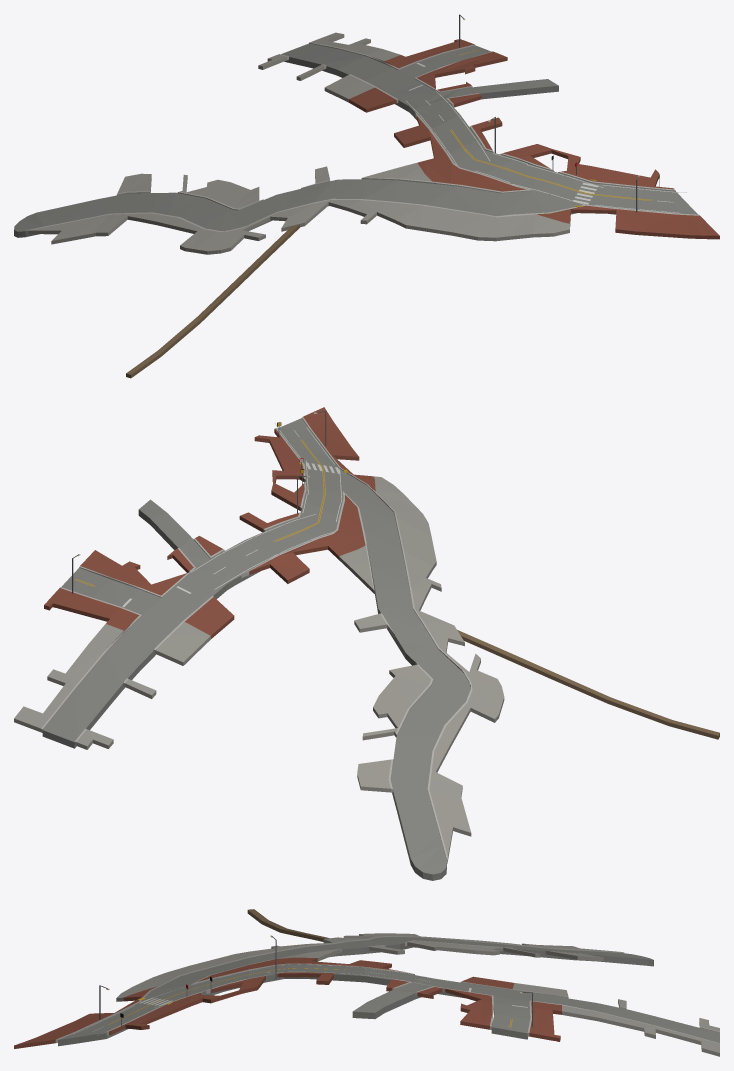
The picture shows the model from 3 angles, top to bottom: view 1: azimuth 30°, elevation 25°; view 2: azimuth 150°, elevation 25°; view 3: azimuth 270°, elevation 25°; orthographic projection. The views are drawn at different scales.
Size of the model in its own units: 102 by 34.2 by 121.
